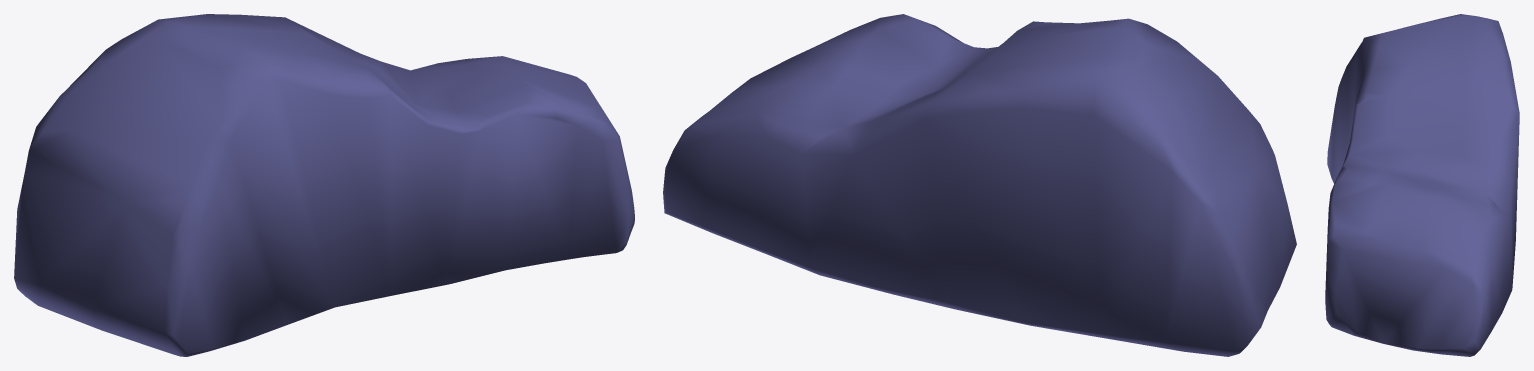
The model's file is RuinsWall_3.fbx.
The picture shows the model from 3 angles, left to right: view 1: azimuth 30°, elevation 25°; view 2: azimuth 150°, elevation 25°; view 3: azimuth 270°, elevation 25°; orthographic projection. The views are drawn at different scales.
Visible parts, largest first — view 1: RuinsWall_3; view 2: RuinsWall_3; view 3: RuinsWall_3.
Part boxes in pixels (left/top/right/bottom): RuinsWall_3: left=14, top=14, right=634, bottom=356; RuinsWall_3: left=663, top=14, right=1296, bottom=356; RuinsWall_3: left=1325, top=14, right=1519, bottom=356.
Size of the model in its own units: 344 by 141 by 133.
